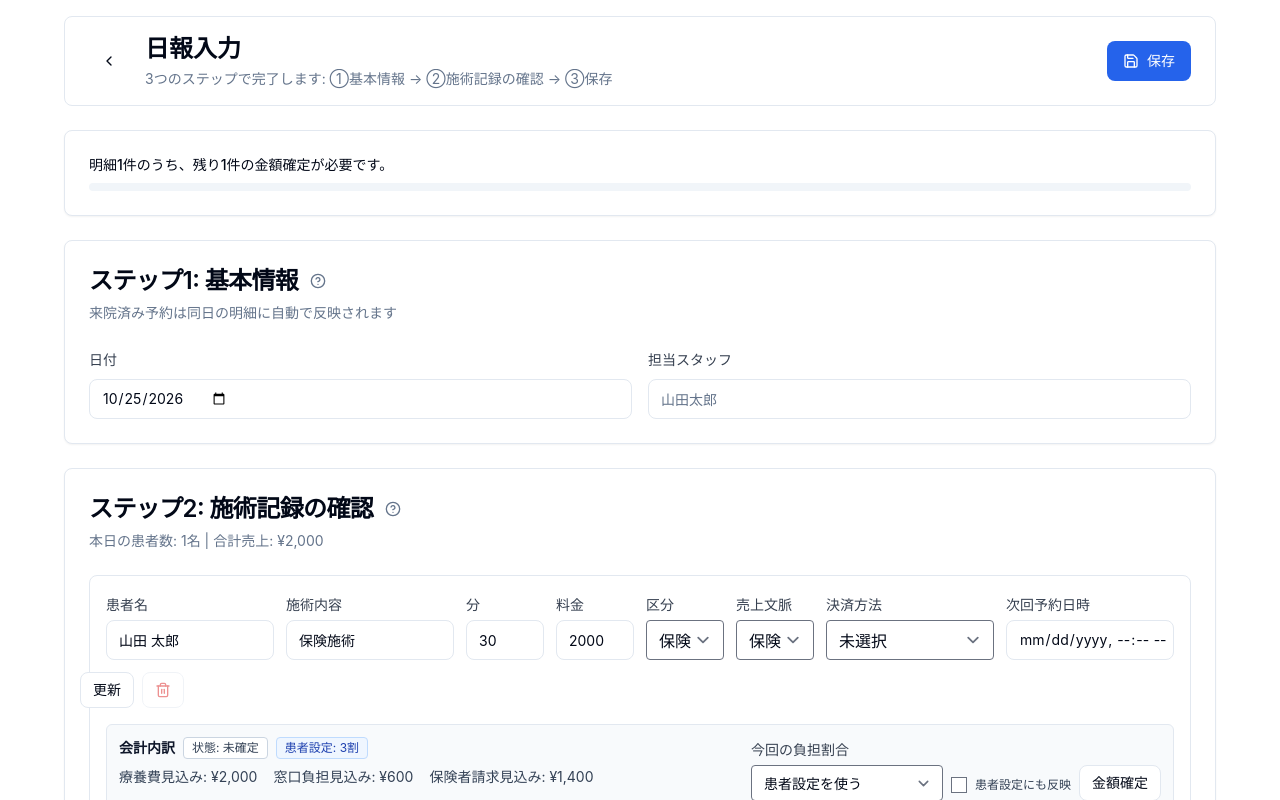
Test: DailyReportInputPage Phase 4A-5 pricing UI › shows both the row edit error and the failed reload error
Expected: the button with aria-label "山田 太郎の金額を確定" is shown, 1079,765 -> 1161,799
Replace the text in the number field labelled "料金" with "2500". click: (595, 640)
box: 556,620 -> 634,660
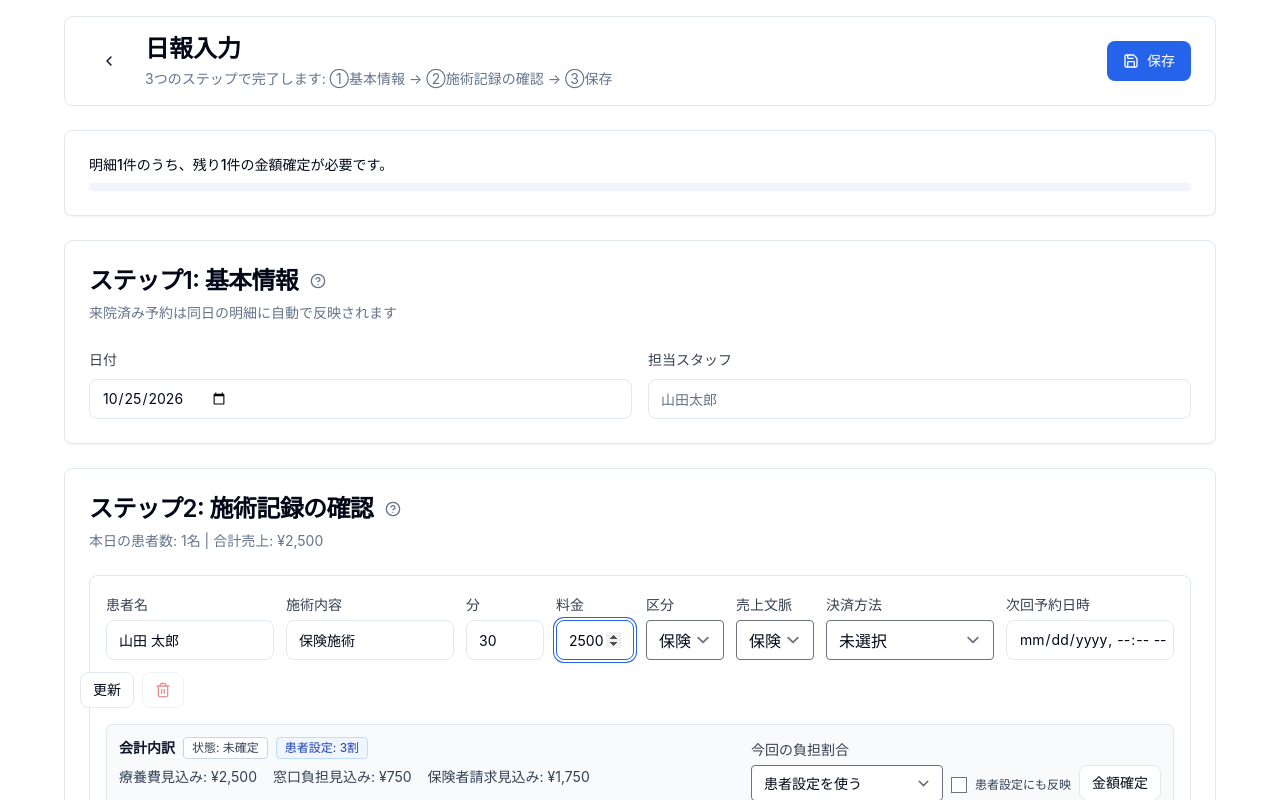
Leave the number field labelled "料金", box 556,620 -> 634,660
(page scrolled)
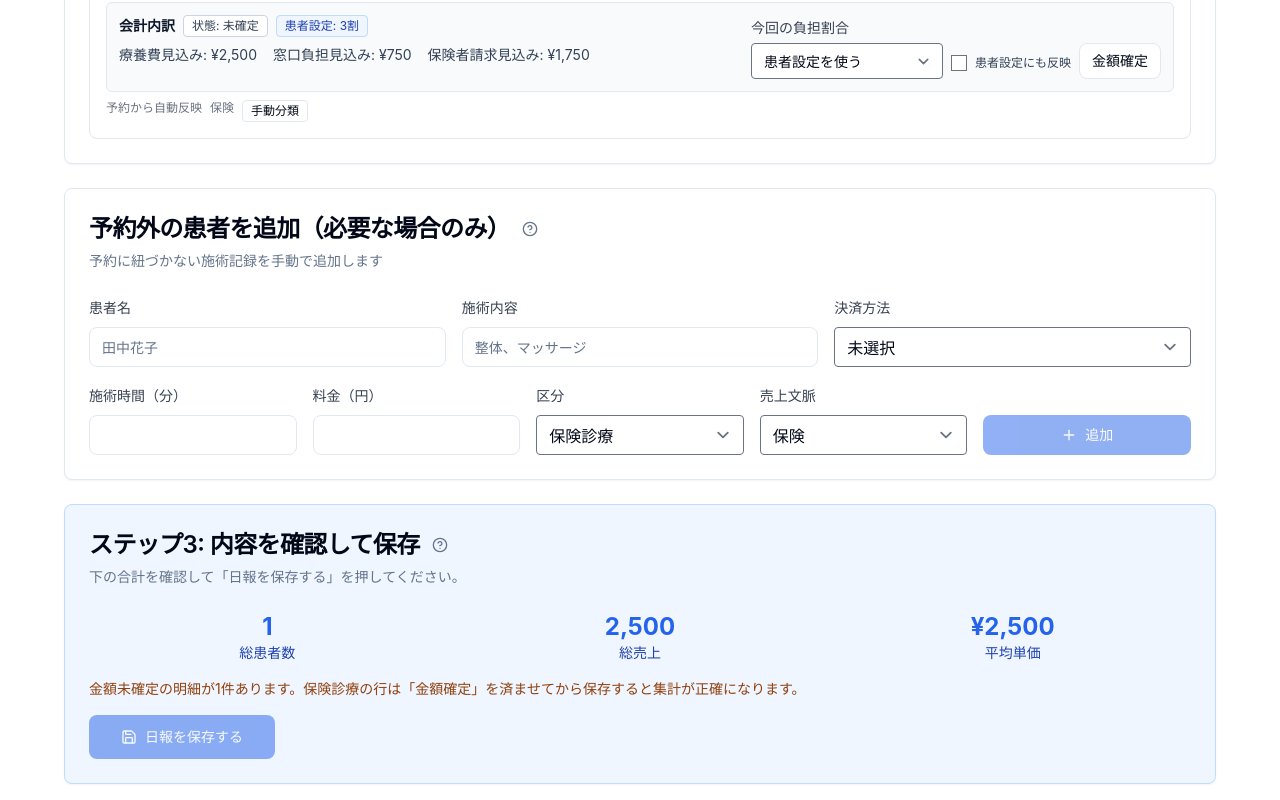
Expected: the button "追加" is disabled, 983,415 -> 1191,455
